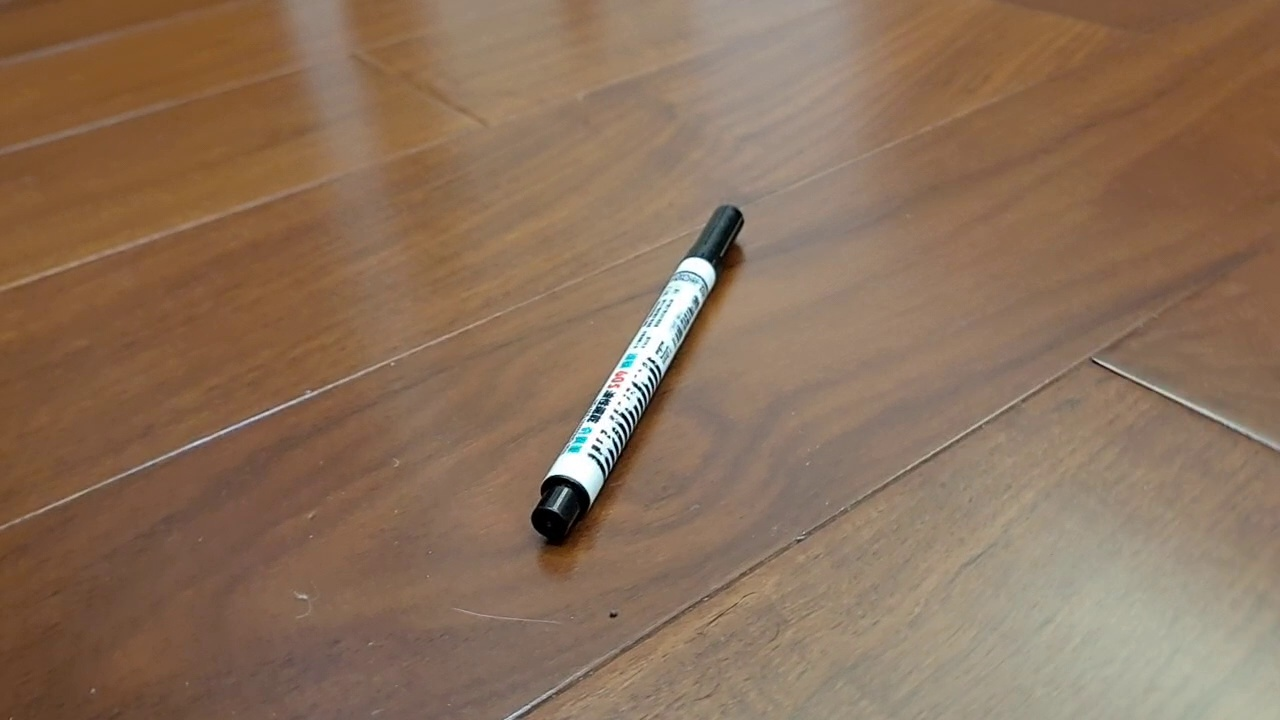pen: (531, 204, 745, 546)
